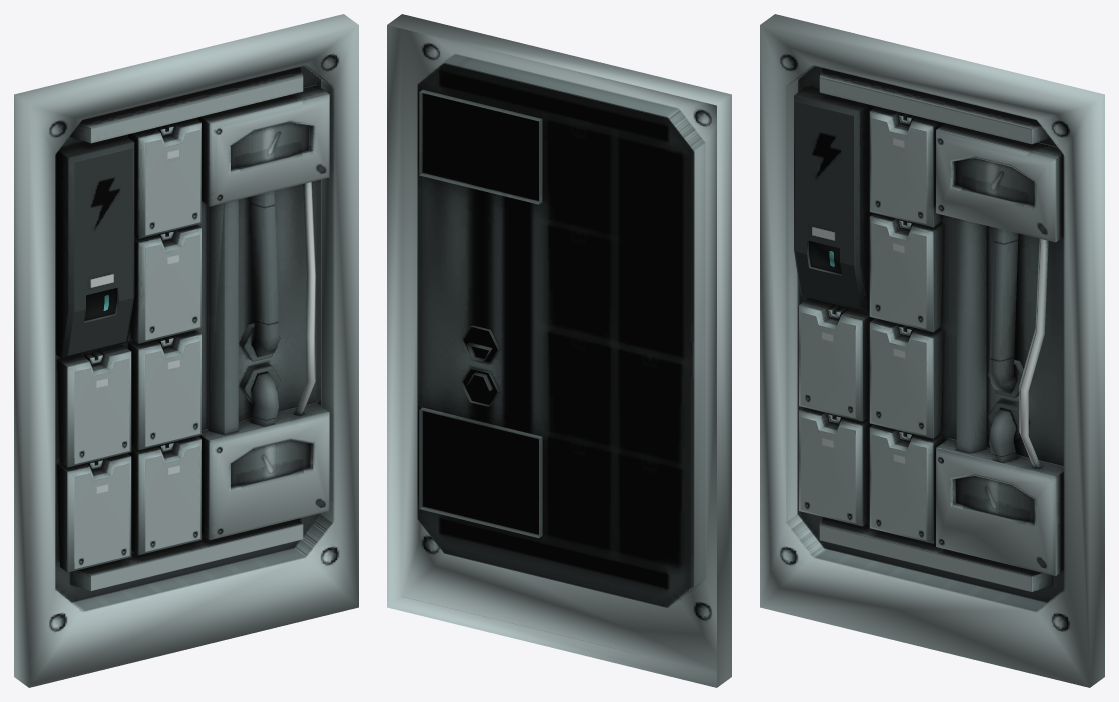
File: techpanel3.FBX
3 renders of one model, left to right at view 1: azimuth 30°, elevation 25°; view 2: azimuth 150°, elevation 25°; view 3: azimuth 330°, elevation 25°, orthographic.
Visible parts, largest first — view 1: Techpanel_03; view 2: Techpanel_03; view 3: Techpanel_03.
Boxes of the visible parts, x1,y1,x2,y2 form: Techpanel_03: (14,14,358,687); Techpanel_03: (387,14,731,687); Techpanel_03: (760,14,1104,687).
Size of the model in its own units: 113 by 191 by 15.94.
Materials: 1 (1 with a texture image).
